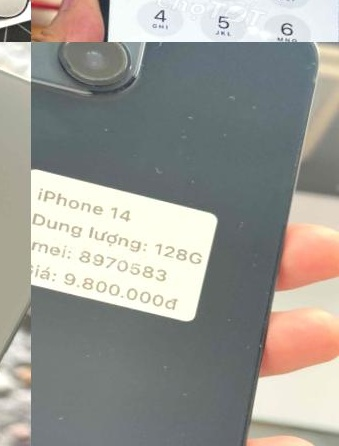scratch: (45, 42, 145, 126), (137, 164, 207, 191), (297, 56, 337, 102), (168, 105, 203, 153), (53, 410, 95, 446), (152, 354, 185, 397), (222, 88, 266, 119), (225, 212, 255, 250), (179, 386, 199, 411), (217, 124, 240, 145), (154, 42, 173, 60), (246, 42, 266, 58)
